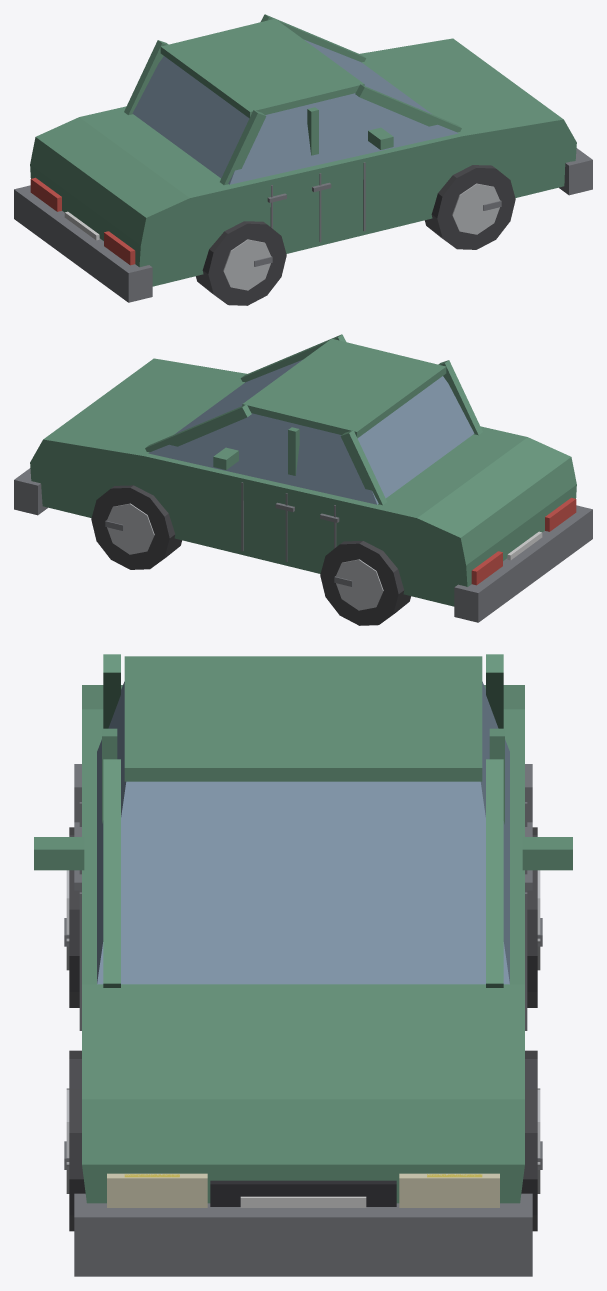
File: Araba_Hatchback_Yesil.glb
3 views of the same model, one above another, from view 1: azimuth 30°, elevation 25°; view 2: azimuth 150°, elevation 25°; view 3: azimuth 270°, elevation 25° (orthographic). The views are drawn at different scales.
Parts seen in each view (by area): view 1: Araba_Hatchback_Yesil, Wheel_0.003, Wheel_2.003; view 2: Araba_Hatchback_Yesil, Wheel_3.003, Wheel_1.003; view 3: Araba_Hatchback_Yesil, Wheel_0.003, Wheel_1.003, Wheel_2.003, Wheel_3.003.
Part boxes in pixels (box(x1,y1,x2,y2)): Araba_Hatchback_Yesil: box(14, 14, 592, 302); Wheel_0.003: box(424, 165, 515, 249); Wheel_2.003: box(196, 221, 286, 305); Araba_Hatchback_Yesil: box(14, 334, 592, 622); Wheel_3.003: box(320, 541, 410, 625); Wheel_1.003: box(91, 485, 182, 569); Araba_Hatchback_Yesil: box(34, 654, 572, 1276); Wheel_0.003: box(64, 1050, 85, 1231); Wheel_1.003: box(521, 1050, 542, 1231); Wheel_2.003: box(64, 827, 79, 1007); Wheel_3.003: box(527, 827, 542, 1007).
Size of the model in its own units: 4.26 by 1.59 by 2.14.
